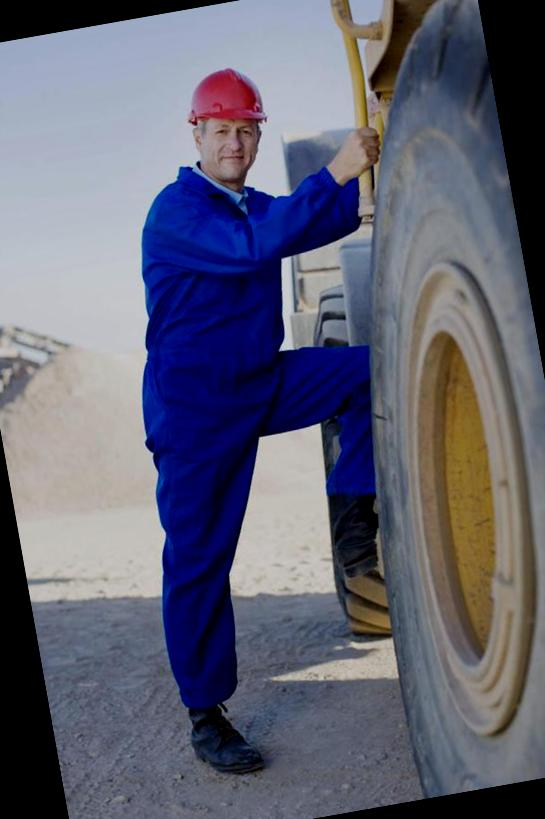helmet: (174, 52, 280, 158)
no_vest: (110, 156, 337, 458)
person: (64, 47, 434, 767)
